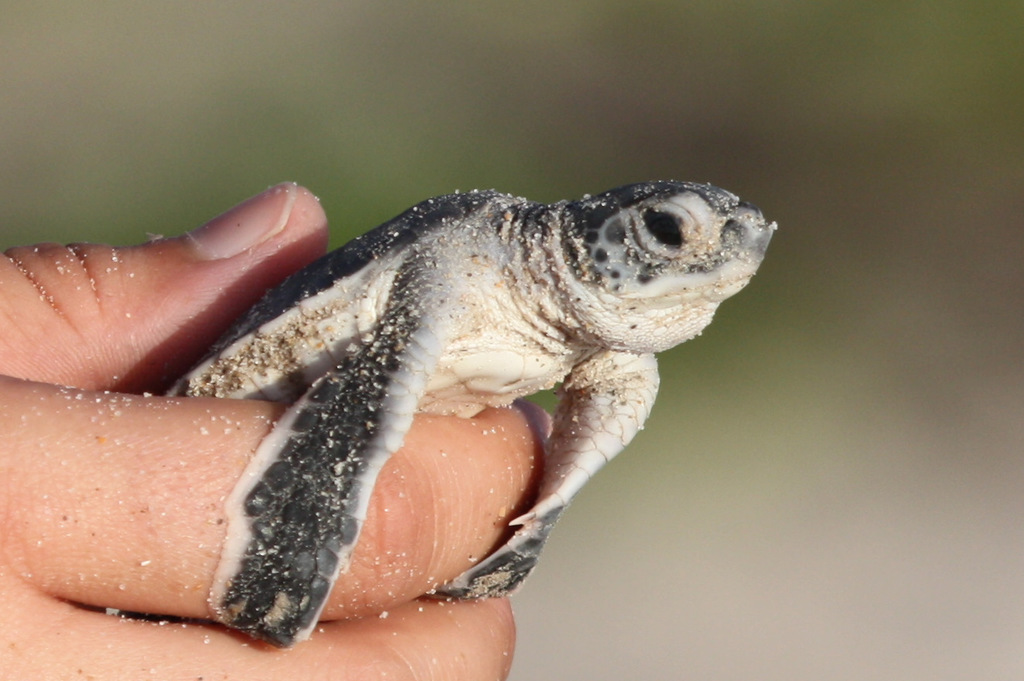Sea turtles: (155, 174, 777, 650)
